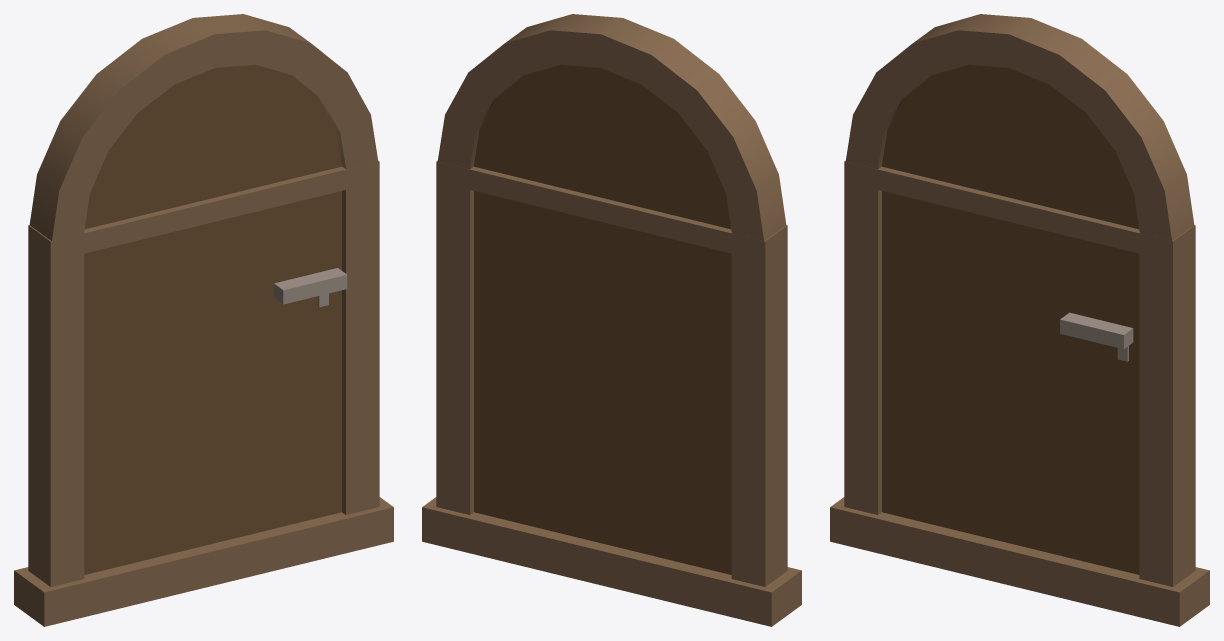
File: kapı 2.1.1.fbx
3 views of the same model, side by side, from view 1: azimuth 30°, elevation 25°; view 2: azimuth 150°, elevation 25°; view 3: azimuth 330°, elevation 25° (orthographic).
Parts seen in each view (by area): view 1: pPipe3; view 2: pPipe3; view 3: pPipe3.
Part boxes in pixels (bbox=[...]): pPipe3: bbox=[14, 14, 393, 626]; pPipe3: bbox=[422, 14, 801, 626]; pPipe3: bbox=[830, 14, 1209, 626].
Size of the model in its own units: 967 by 1446 by 167.
